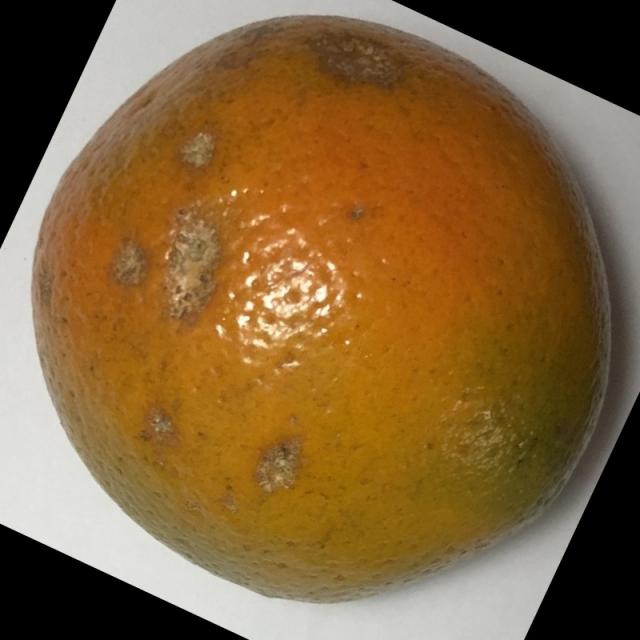canker: (24, 8, 627, 613)
